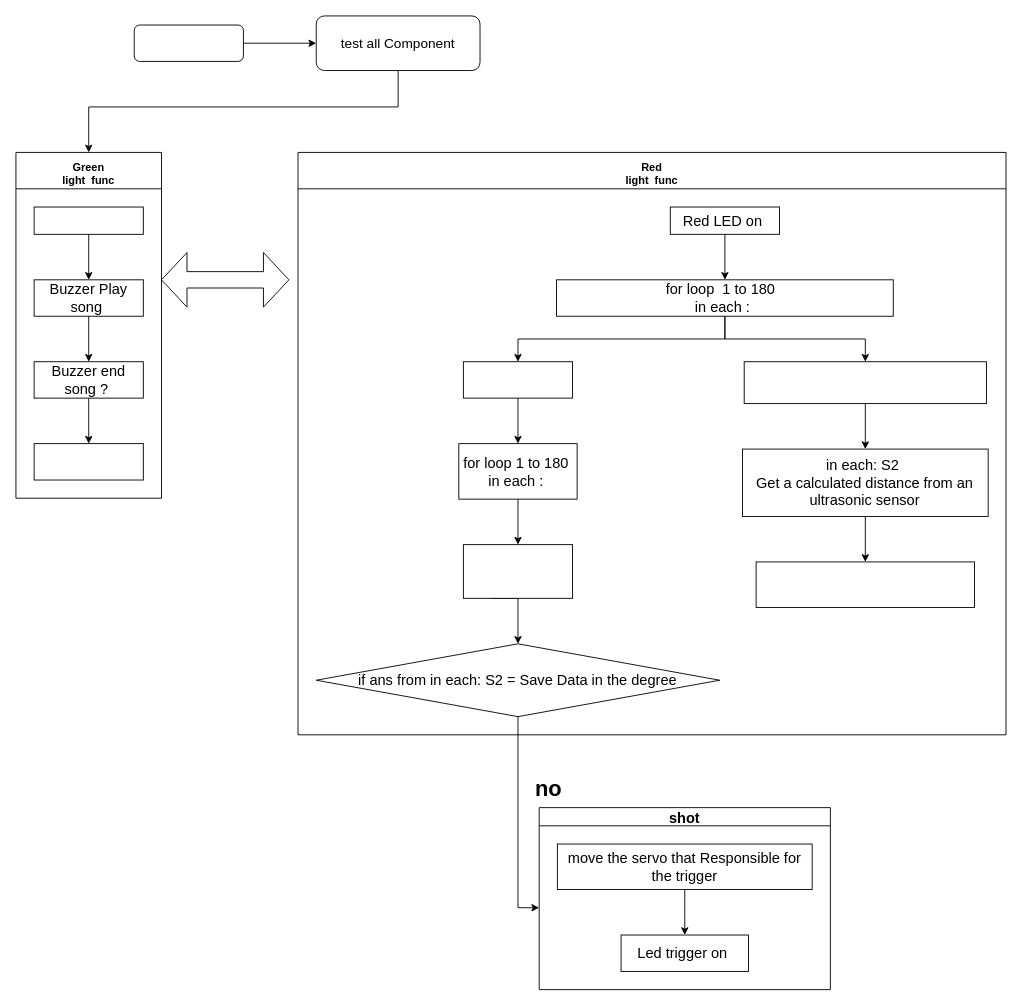
The diagram is 1022 pixels wide and 1006 high, and some of its shapes have lost their labels. Here are the shapes that lost their labels. From the top down, the centre of each, then its label:
point (188, 42): start
point (88, 220): Green LED on
point (517, 379): end of loop
point (864, 382): in each: S1 move the serve 1 degree
point (88, 461): Green LED off
point (517, 571): Do in each: S1 in each: S2
point (865, 584): in each: Save the measured distance
